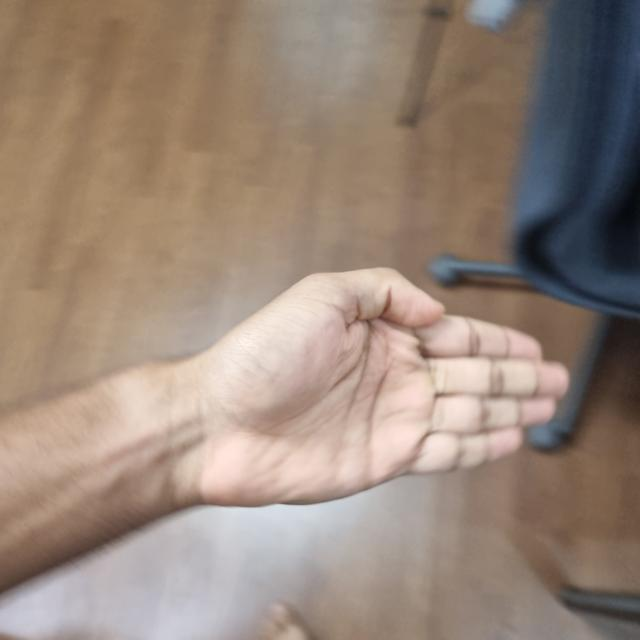Paper: (181, 270, 506, 504)
